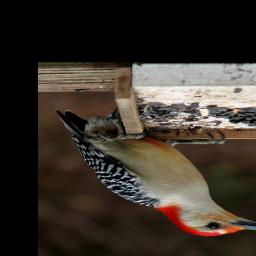Woodpecker: (53, 107, 256, 237)
